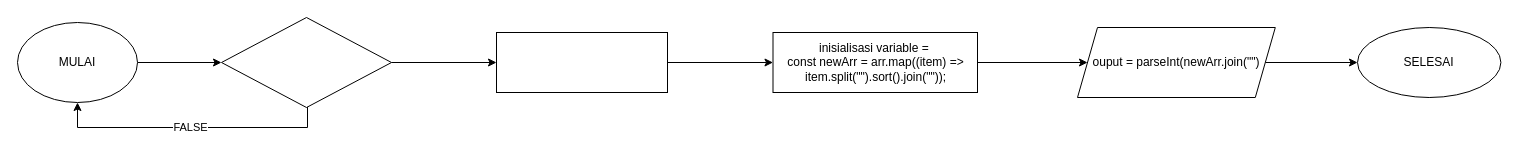
Some shapes in this 1519 by 153 pixel diagram are drawn without their labels. Each missing label, with the centre of its shape:
inisialisasi variable = const arr = angka.toString().split("0");: (582,62)
typeof angka !== "number": (306,62)
